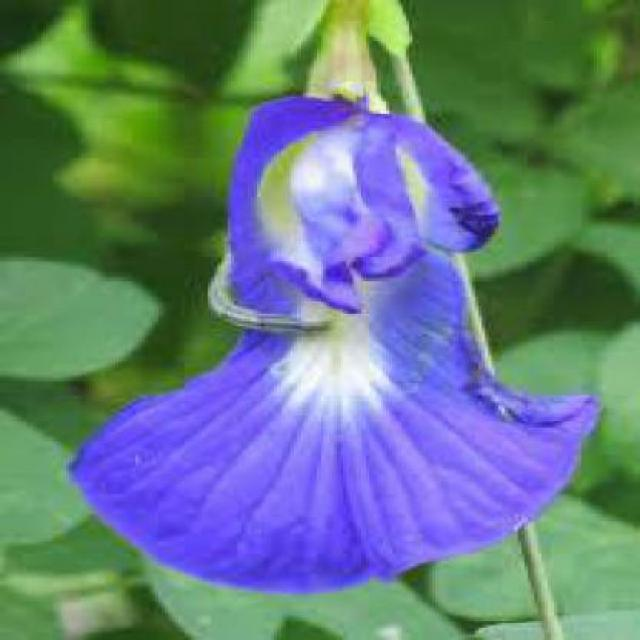flower: (59, 102, 604, 567)
